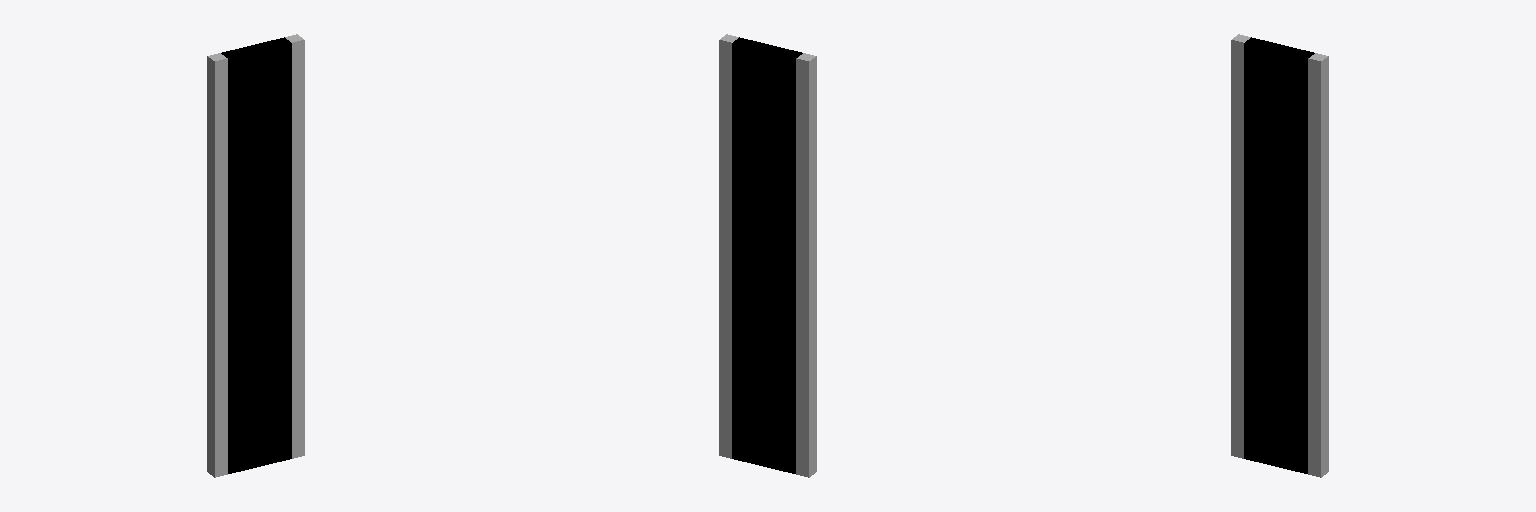
3 views of the same model, side by side, from view 1: azimuth 30°, elevation 25°; view 2: azimuth 150°, elevation 25°; view 3: azimuth 330°, elevation 25° (orthographic).
Visible parts, largest first — view 1: object 1; view 2: object 1; view 3: object 1.
Part boxes in pixels (x1,y1,x2,y2): object 1: (207,34,304,477); object 1: (719,34,816,477); object 1: (1231,34,1328,477).
Bounding box in the file's own units: 0.7 × 3.1 × 0.1.
Materials: 1 (1 with a texture image).